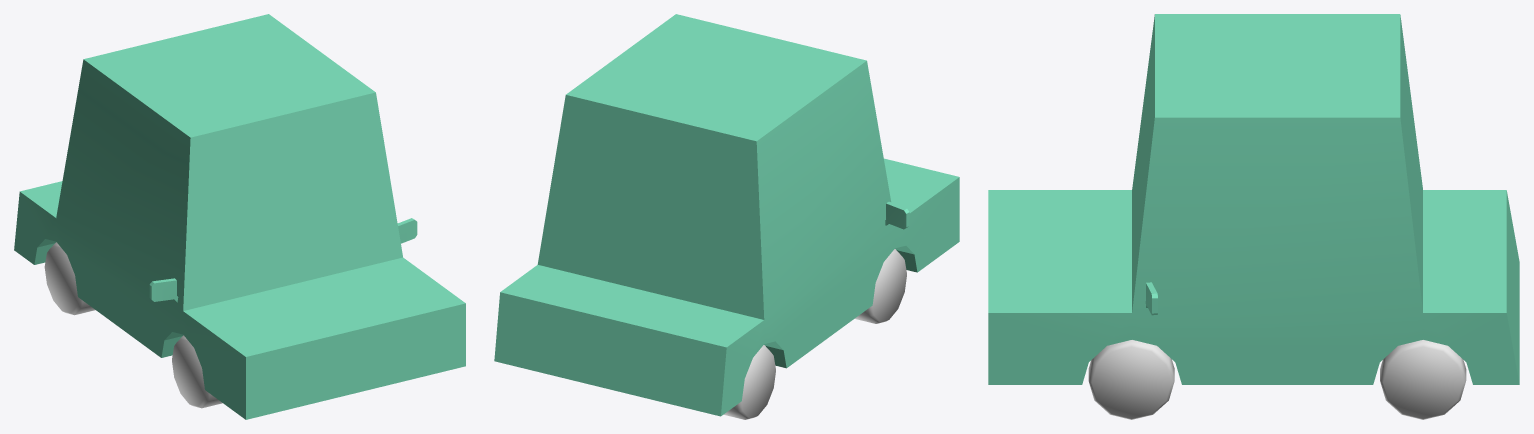
The model's file is car.fbx.
The picture shows the model from 3 angles, left to right: view 1: azimuth 30°, elevation 25°; view 2: azimuth 150°, elevation 25°; view 3: azimuth 270°, elevation 25°; orthographic projection. The views are drawn at different scales.
Visible parts, largest first — view 1: car03, wheel_4, wheel_3; view 2: car03, wheel_3, wheel_4; view 3: car03, wheel, wheel_2.
Boxes of the visible parts, box(x1,y1,x2,y2) form: car03: box(14, 14, 465, 419); wheel_4: box(44, 242, 95, 315); wheel_3: box(172, 335, 222, 408); car03: box(494, 14, 959, 416); wheel_3: box(855, 249, 906, 323); wheel_4: box(724, 345, 775, 419); car03: box(988, 14, 1519, 384); wheel: box(1380, 340, 1466, 419); wheel_2: box(1088, 340, 1174, 419).
Size of the model in its own units: 242 by 225 by 365.
